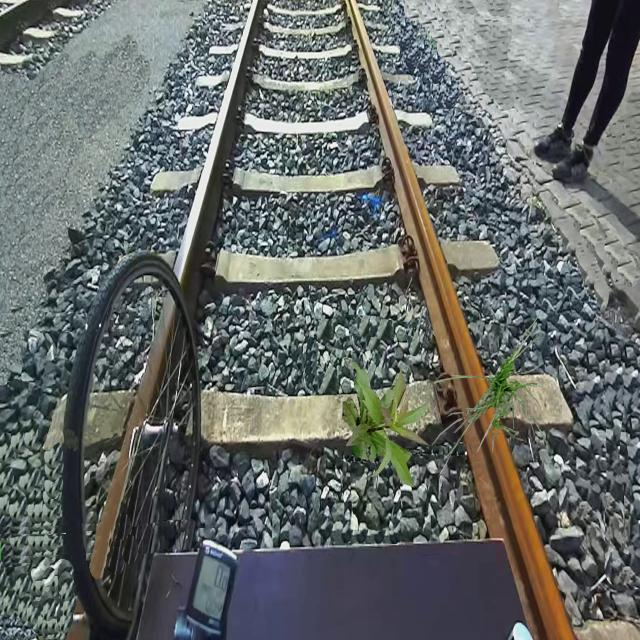Plant: (432, 313, 550, 477), (342, 358, 430, 488)
